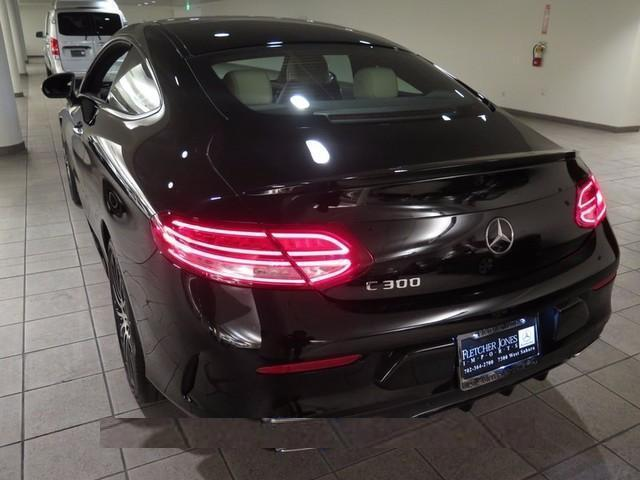C300Coupe: (41, 16, 632, 427)
